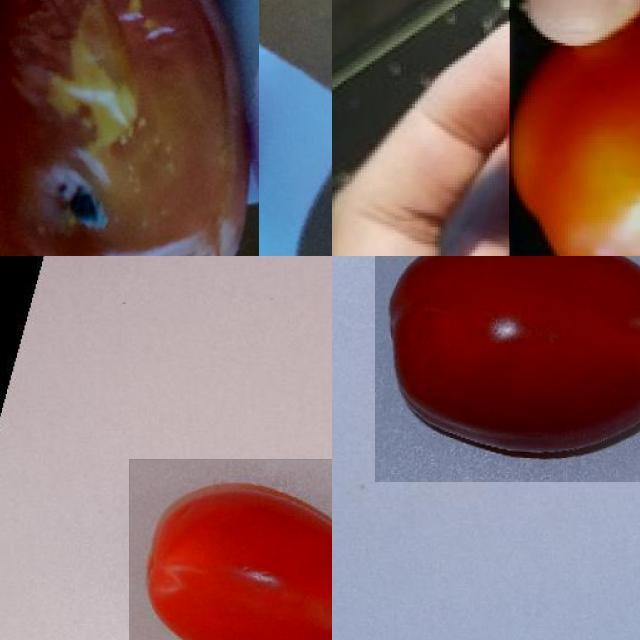Fresh Tomato: (375, 256, 640, 482), (129, 459, 332, 640), (509, 14, 640, 256)
Rotten Tomato: (0, 0, 258, 256)
